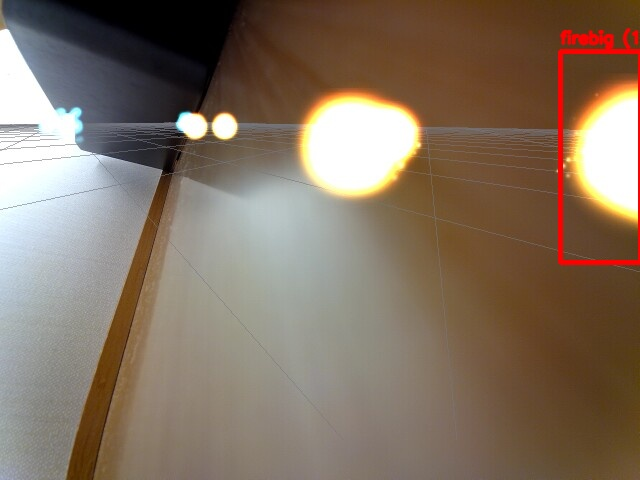firebig: (560, 51, 640, 262)
